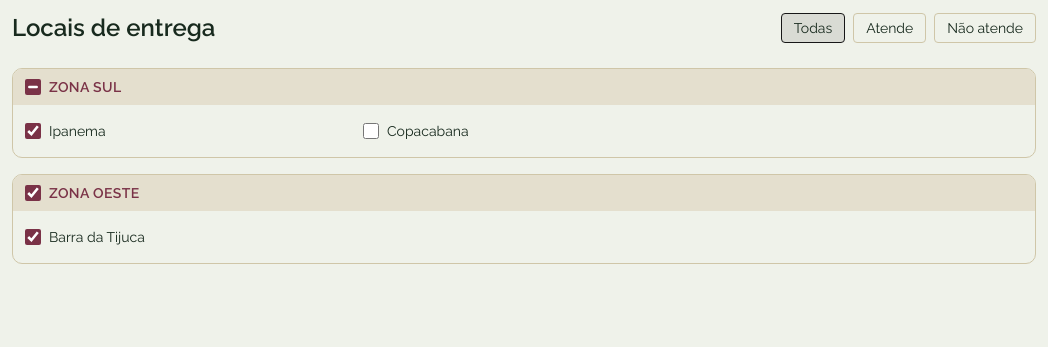
Scenario: EntregasPage › shows an inline error when toggling a bairro fails
The width and height of the screenshot is (1048, 347).
Check: the text "Ipanema" is shown, box [49,121,106,141]
Click the checkbox named "Atendida Ipanema" at x=33, y=131, box [25,123,41,139]
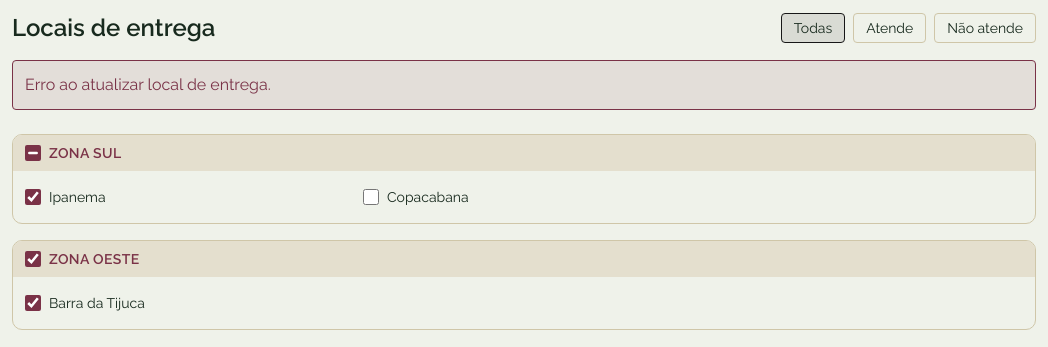
Check: the message reads "Erro ao atualizar local de entrega.", box [25,75,271,94]
